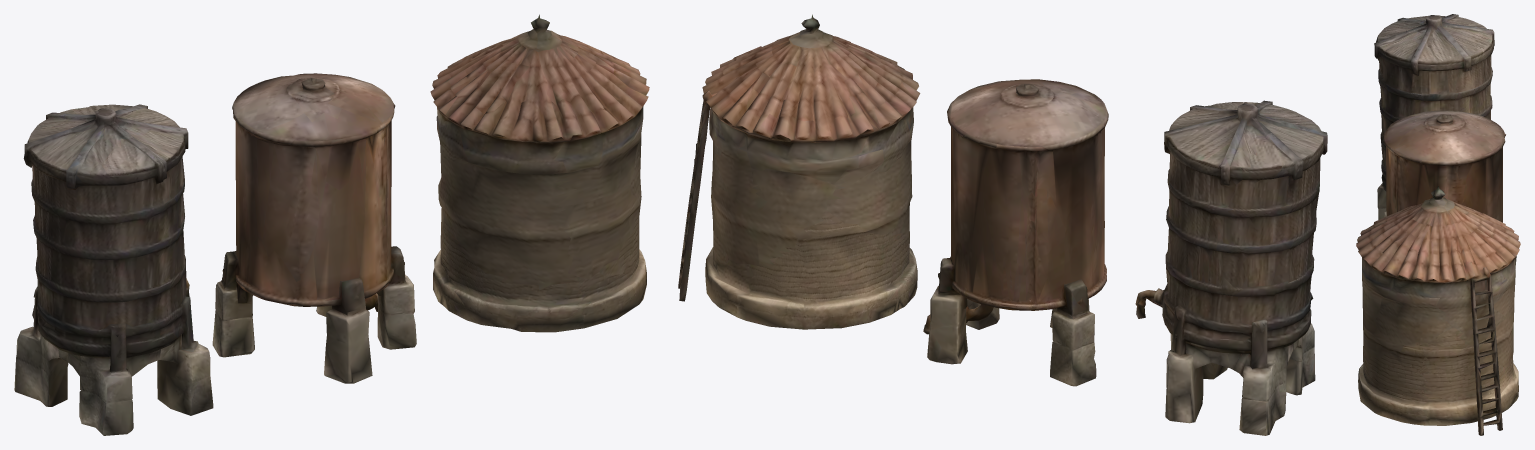
Rendered from oil_tanks_pack.glb.
3 renders of one model, left to right at view 1: azimuth 30°, elevation 25°; view 2: azimuth 150°, elevation 25°; view 3: azimuth 270°, elevation 25°, orthographic. The views are drawn at different scales.
Visible parts, largest first — view 1: tank_brick, tank_wood, tank_copper; view 2: tank_brick, tank_wood, tank_copper; view 3: tank_brick, tank_wood, tank_copper.
Part boxes in pixels (<box>): tank_brick: <box>430,14,649,332</box>; tank_wood: <box>14,104,213,435</box>; tank_copper: <box>212,73,416,383</box>; tank_brick: <box>678,14,920,329</box>; tank_wood: <box>1135,100,1327,435</box>; tank_copper: <box>923,79,1108,386</box>; tank_brick: <box>1356,186,1520,435</box>; tank_wood: <box>1374,14,1494,219</box>; tank_copper: <box>1383,110,1505,222</box>.
Size of the model in its own units: 1.04 by 0.4742 by 0.3229.
Materials: 1 (1 with a texture image).
